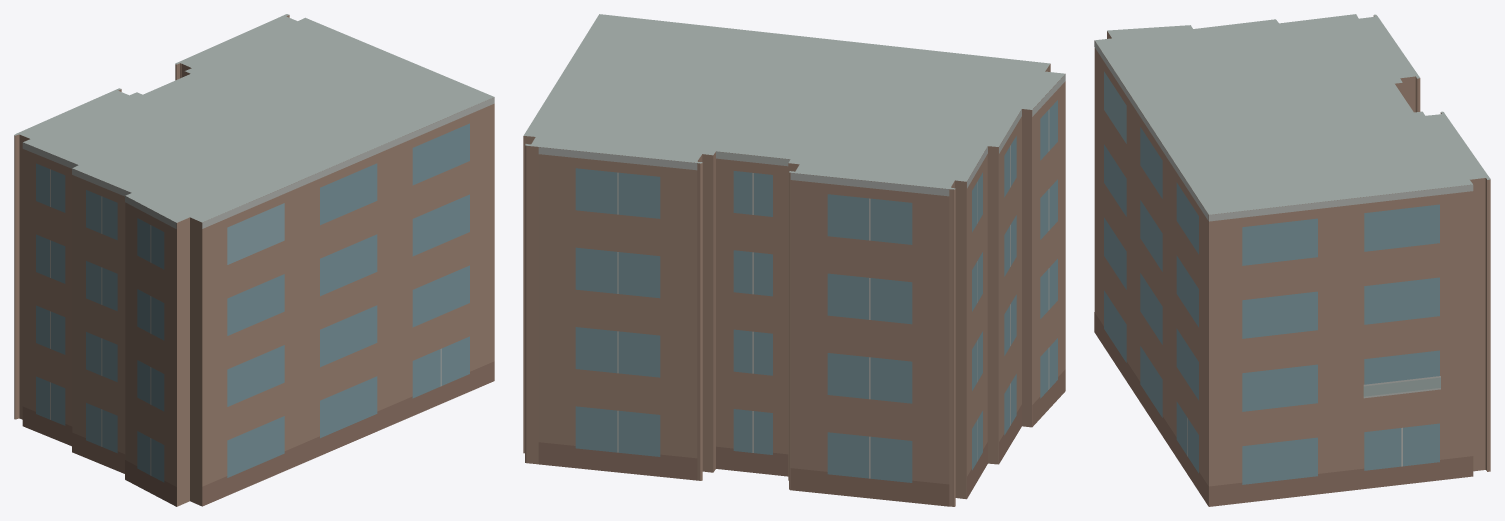
The model's file is survey-upis-32642598.glb.
3 renders of one model, left to right at view 1: azimuth 30°, elevation 25°; view 2: azimuth 150°, elevation 25°; view 3: azimuth 270°, elevation 25°, orthographic. The views are drawn at different scales.
Visible parts, largest first — view 1: survey-upis-32642598.tmp; view 2: survey-upis-32642598.tmp; view 3: survey-upis-32642598.tmp.
Boxes of the visible parts, box(x1,y1,x2,y2) form: survey-upis-32642598.tmp: box(14, 14, 494, 506); survey-upis-32642598.tmp: box(523, 14, 1065, 506); survey-upis-32642598.tmp: box(1094, 14, 1490, 506).
Bounding box in the file's own units: 15.72 × 10.65 × 13.1.
